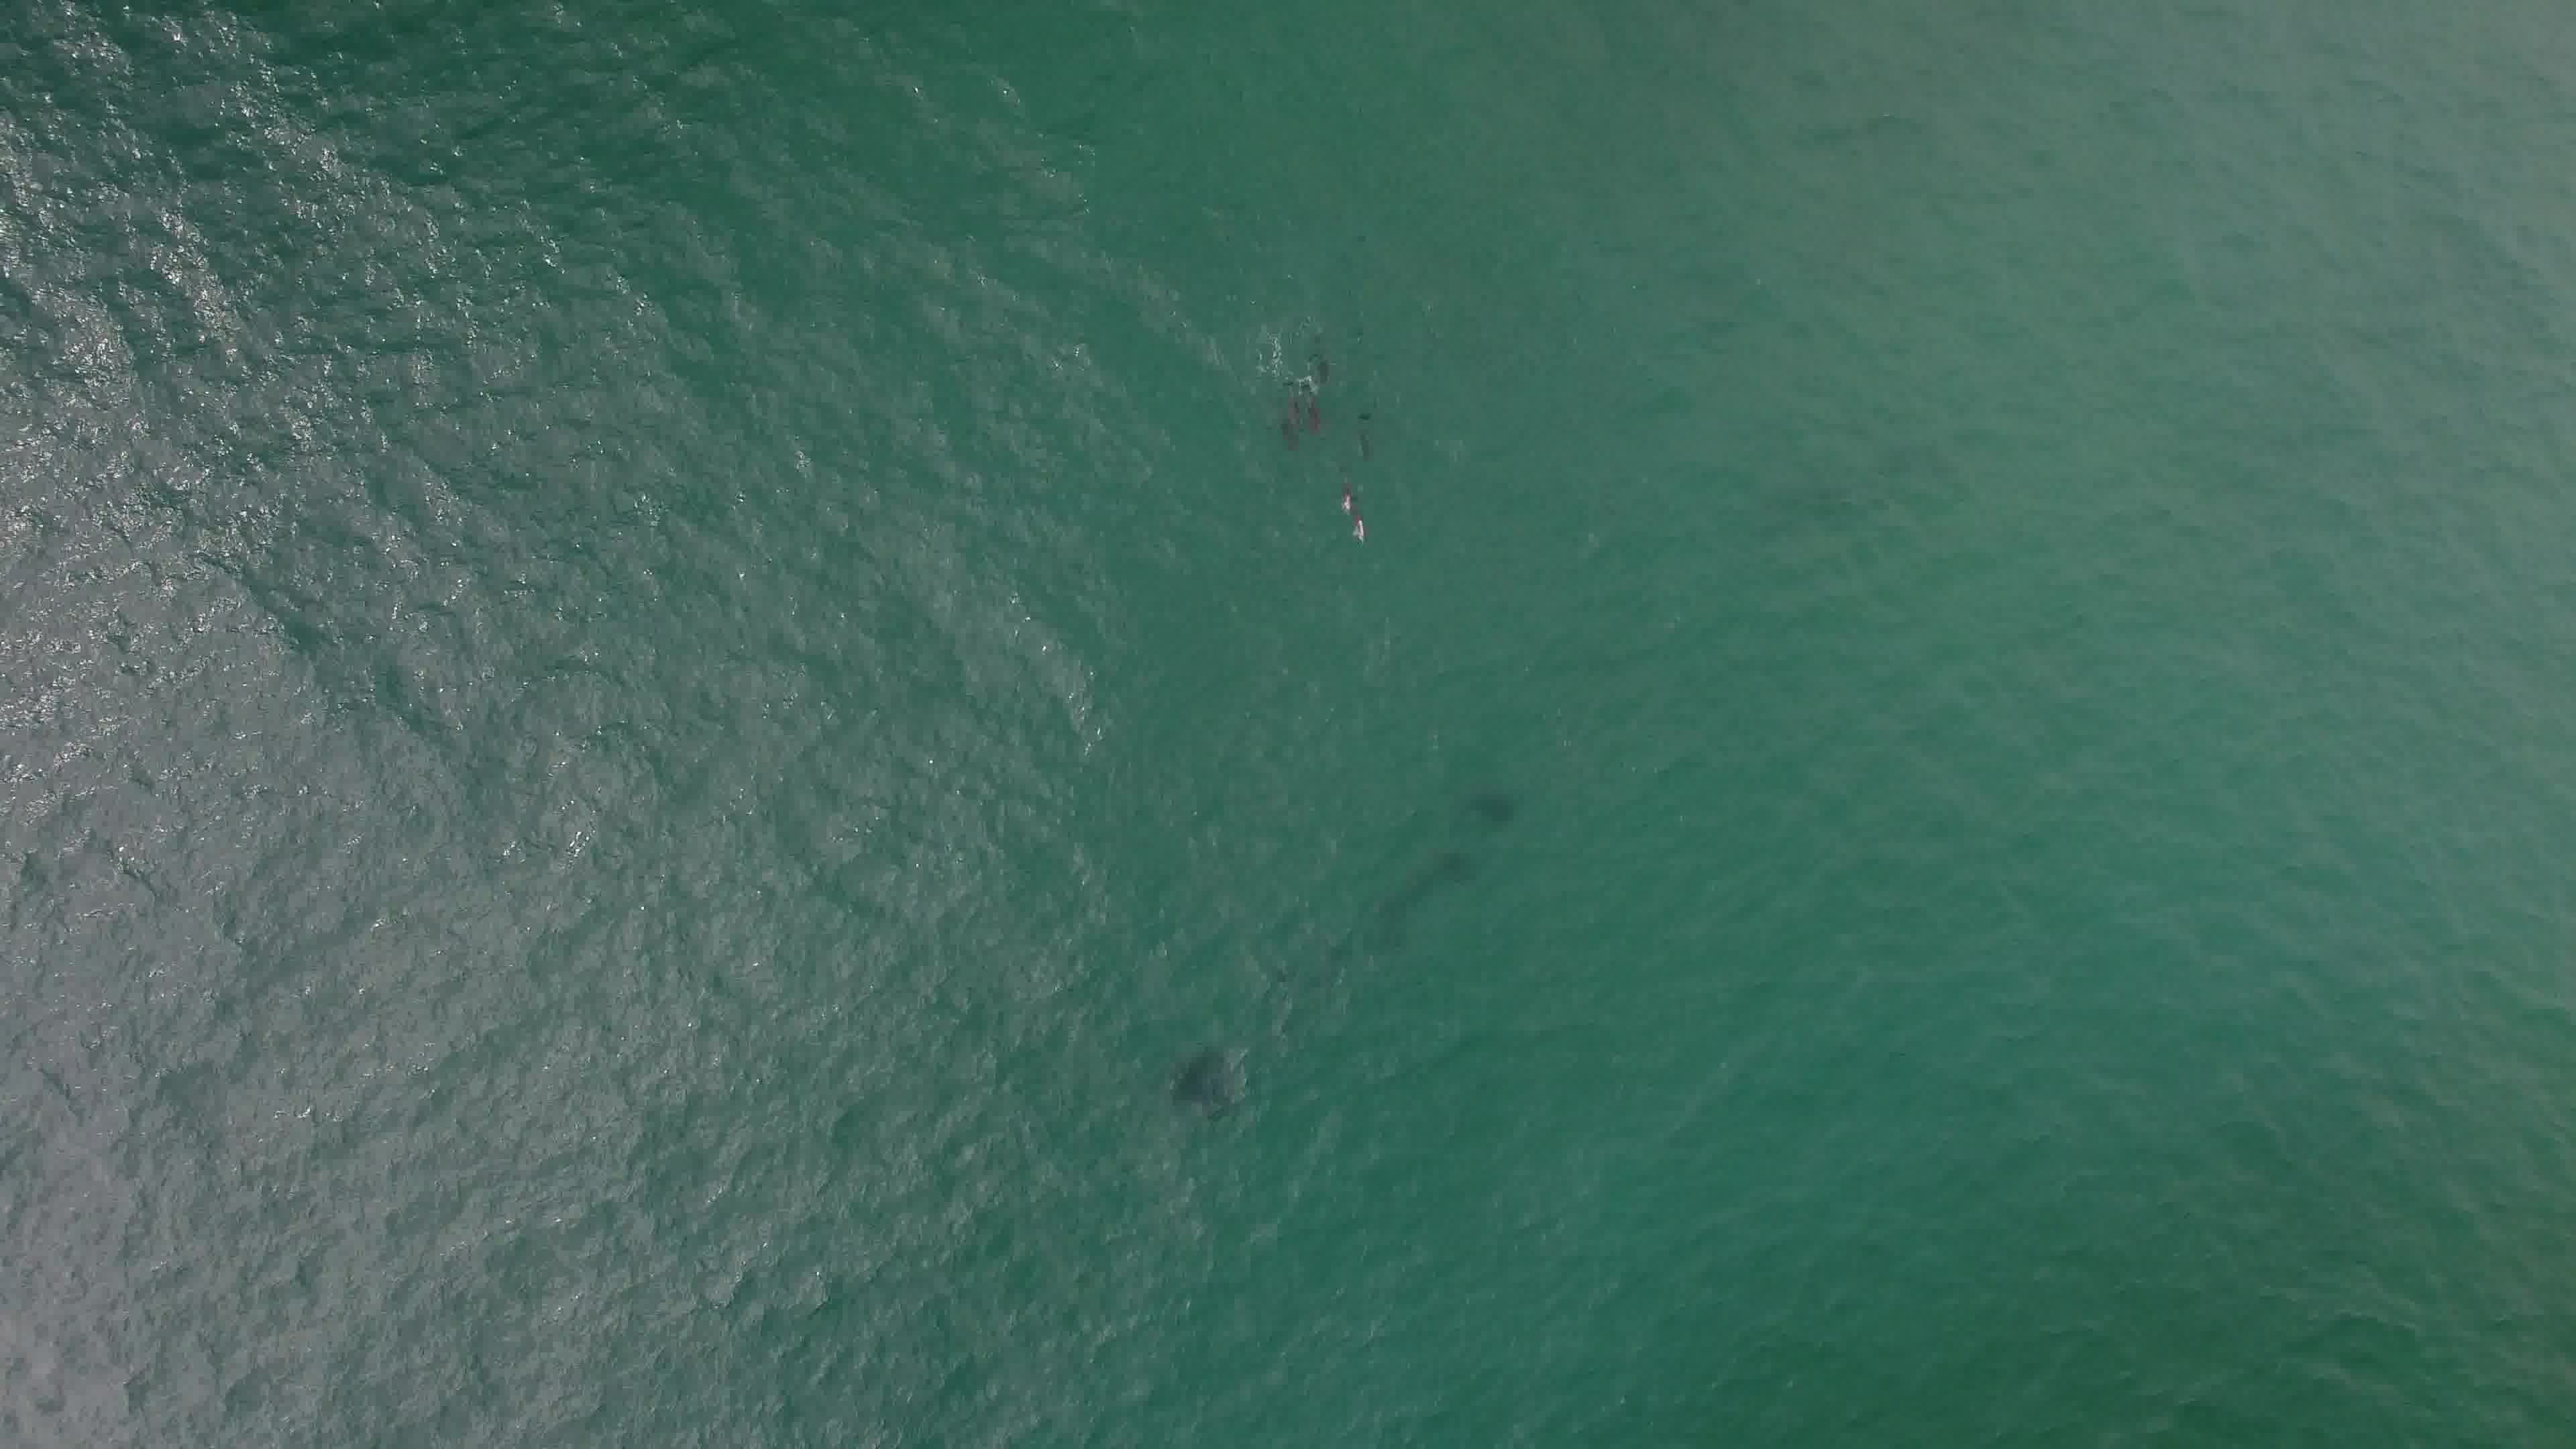dolphin: (1341, 402, 1389, 481), (1270, 370, 1307, 448), (1299, 361, 1334, 441), (1325, 460, 1364, 520), (1345, 487, 1376, 552)
